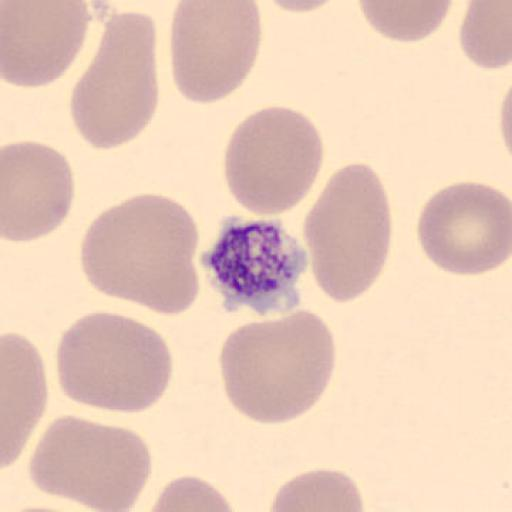Platelet: (199, 214, 310, 318)
RBC: (79, 192, 201, 317), (218, 309, 337, 424), (301, 160, 393, 307), (68, 10, 161, 152), (54, 310, 175, 414), (28, 413, 154, 512), (222, 104, 324, 216), (168, 0, 262, 104), (415, 180, 511, 277), (2, 0, 92, 89), (2, 139, 76, 243), (1, 330, 50, 470), (356, 0, 456, 44), (268, 467, 365, 512), (458, 0, 512, 71), (146, 474, 239, 512), (260, 0, 344, 14), (499, 79, 512, 158), (1, 503, 90, 512)
